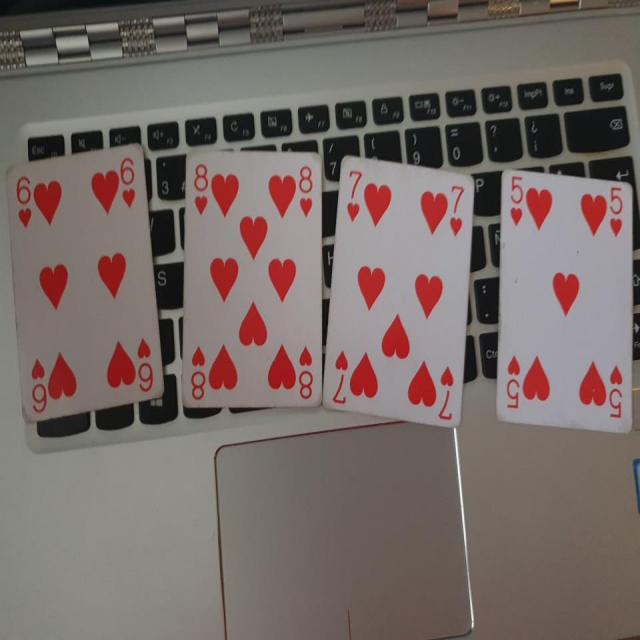5 Hearts: (493, 164, 640, 434)
6 Hearts: (1, 132, 172, 442)
7 Hearts: (322, 149, 478, 434)
8 Hearts: (176, 142, 333, 419)
